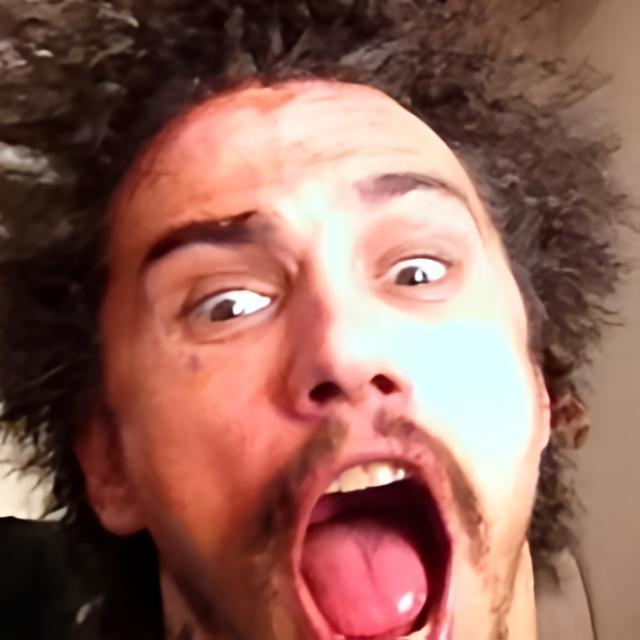fear: (104, 76, 538, 640)
